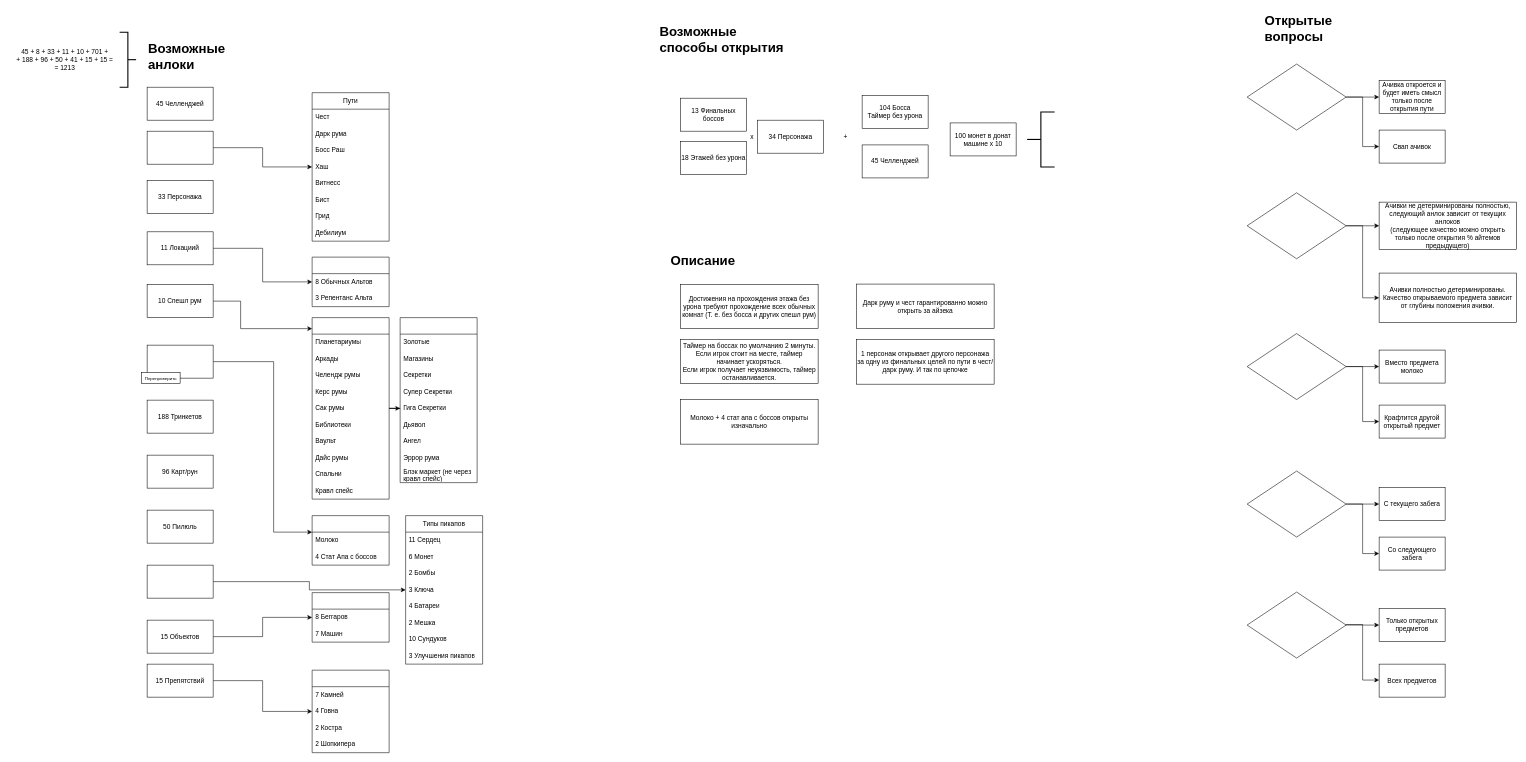
This 1526x762 diagram has some shape labels left out. The shapes that lost their labels are listed below. From the top down, each one's box as (x1, y1, x2, y2) in pixels, then its label:
(1247, 64, 1346, 130): Антиберз путь не открыт, игрок открывает альт для него
(147, 131, 213, 164): 8 Путей
(1026, 111, 1055, 167): Итого: 1213
(1247, 192, 1346, 259): Усложненная прогрессия анлоков
(312, 257, 389, 307): Локации
(147, 345, 213, 378): 701 Предмет
(1247, 333, 1346, 400): В мешке ткаина выпадает рецепт закрытого предмета.
(312, 317, 389, 499): Комнаты
(400, 317, 477, 483): Открытые комнаты
(1247, 471, 1346, 537): Предмет открылся. Когда он может появляться
(312, 515, 389, 565): Открытые
(147, 565, 213, 598): 41 Пикап
(312, 592, 389, 642): Типы объектов
(1247, 592, 1346, 658): Эффекты метронома
(312, 670, 389, 753): Типы препятствий
